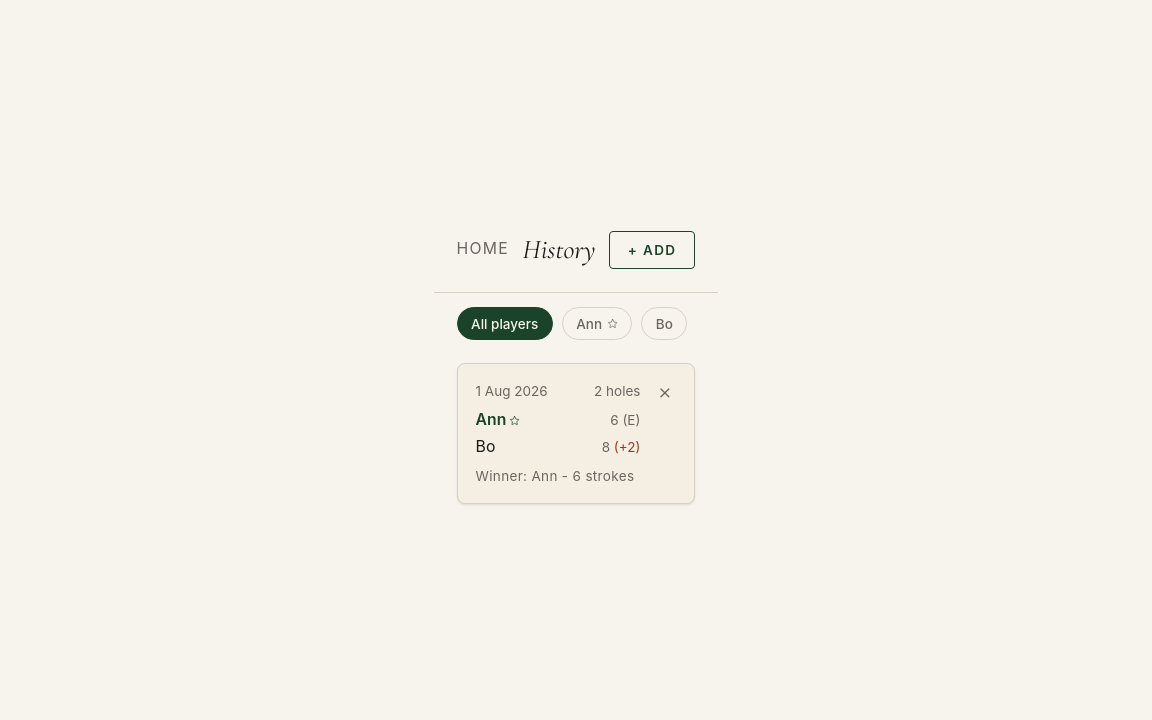
it: History cards › the delete sheet returns focus to the round's delete control on Escape
Check: the button named "Open round" is shown, box [458,364,694,503]
Step 1. Click the button named "Delete round" → (665, 393), box [640,368,690,418]
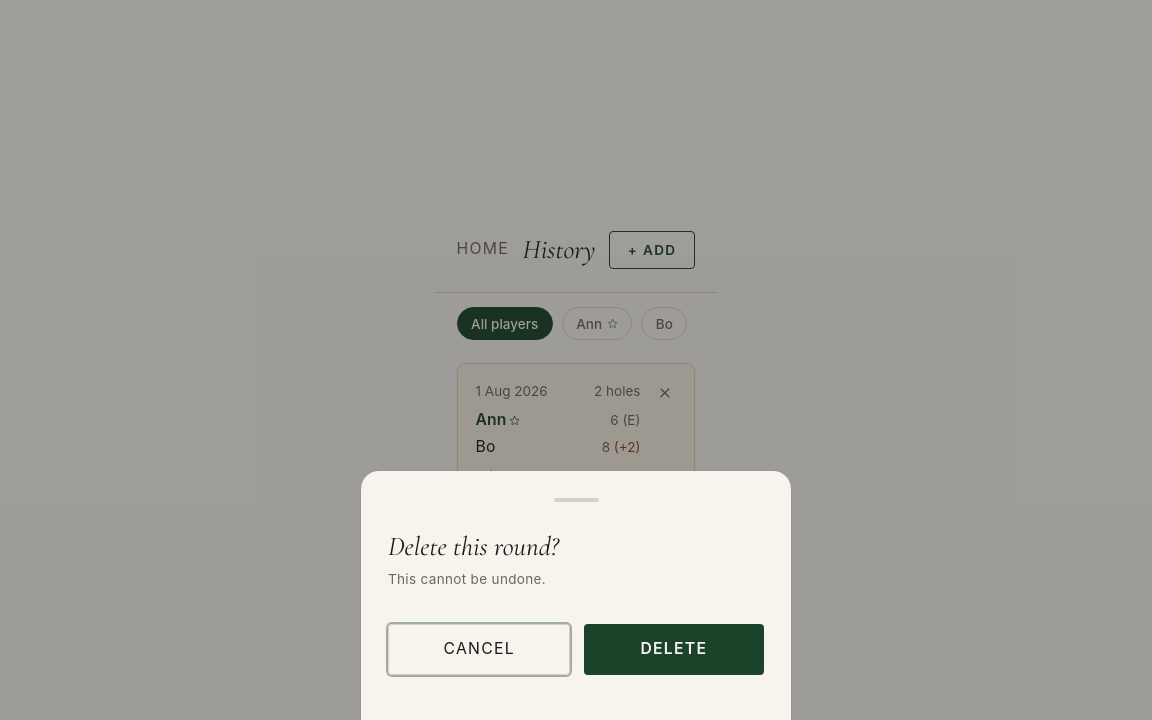
Check: the dialog "Delete this round?" is shown, box [361,470,791,719]
Step 2. Press Escape
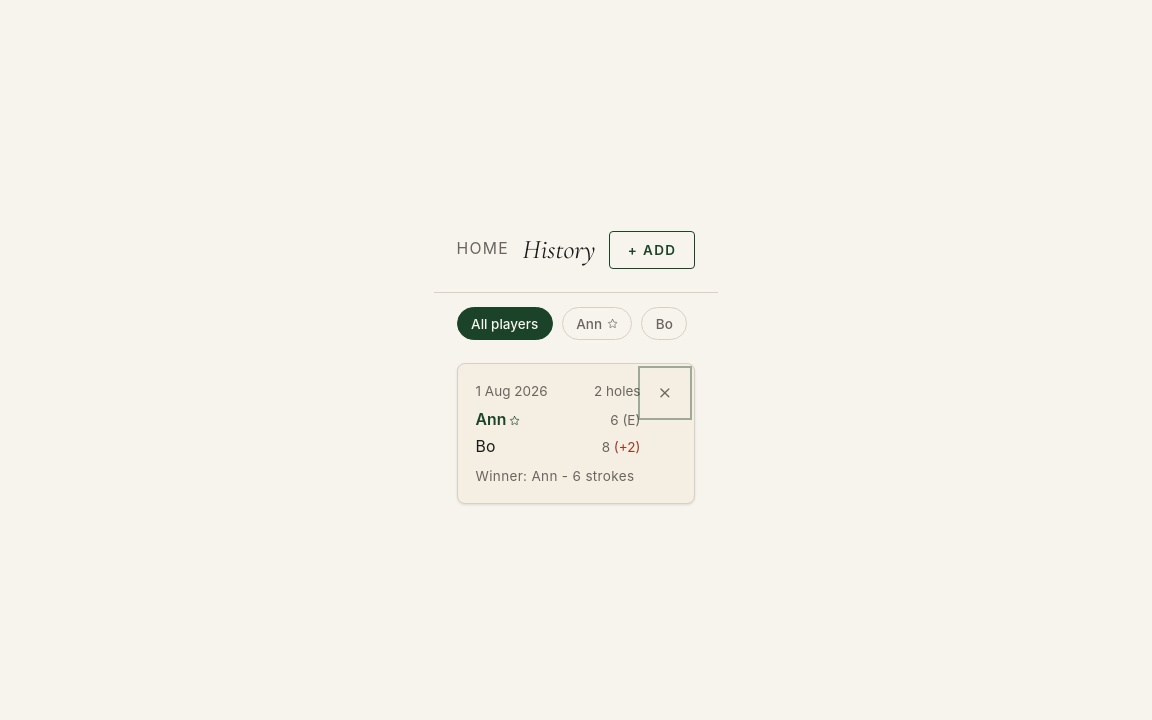
Check: the dialog is gone
